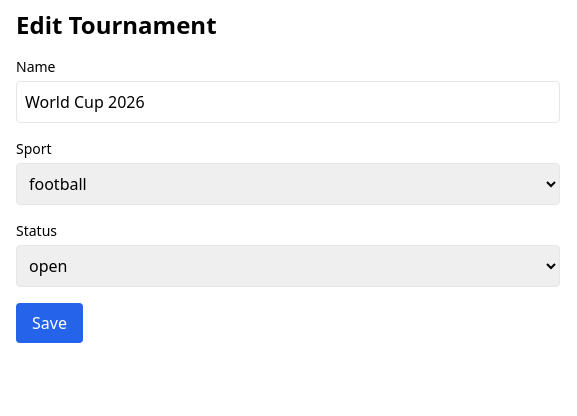
Test: EditTournamentPage › shows a fallback error when save fails without field errors
Expected: the field showing "World Cup 2026" is shown, [16,81,560,123]
Click the button "Save" at (49, 323), box [16,303,83,343]
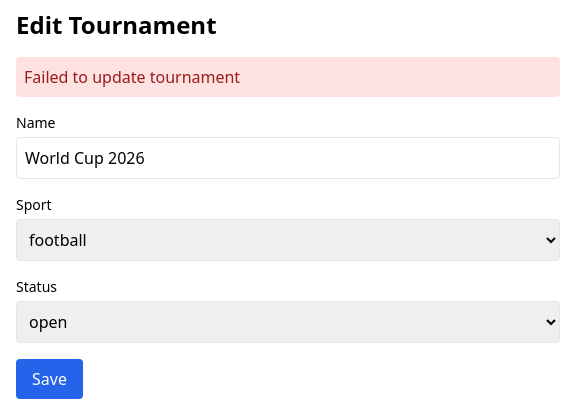
Expected: the text "Failed to update tournament" is shown, [16,57,560,97]
